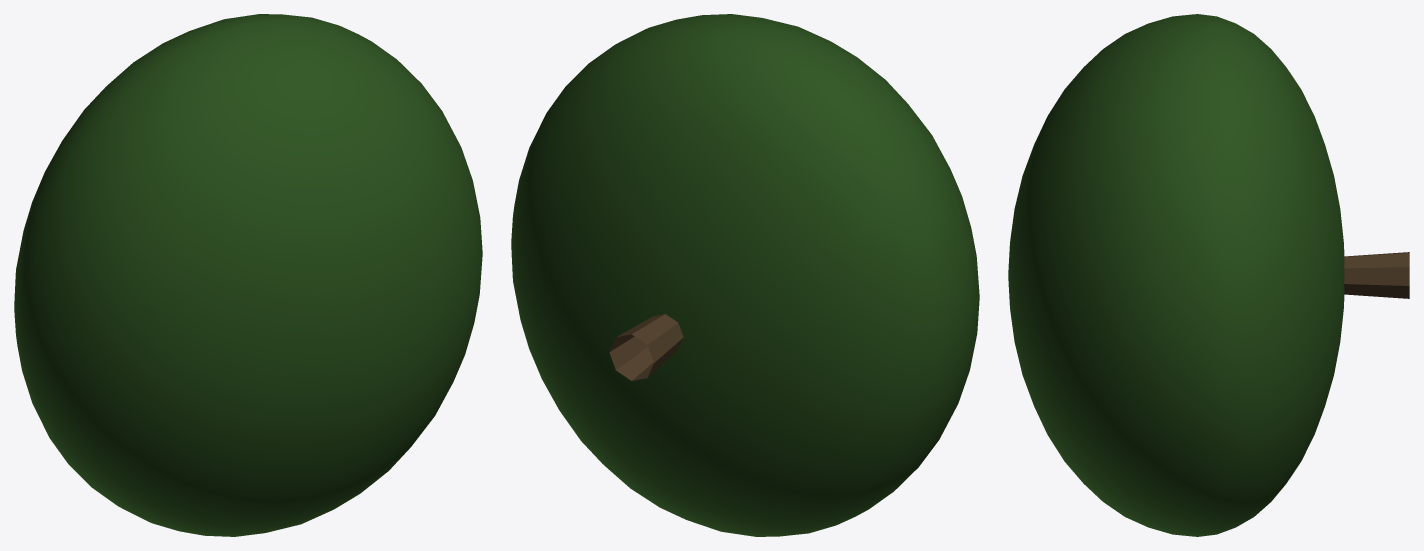
The model's file is citrus_plain_f.obj.
The picture shows the model from 3 angles, left to right: view 1: azimuth 30°, elevation 25°; view 2: azimuth 150°, elevation 25°; view 3: azimuth 270°, elevation 25°; orthographic projection. The views are drawn at different scales.
Parts seen in each view (by area): view 1: canopy; view 2: canopy, trunk; view 3: canopy, trunk.
Boxes of the visible parts, <box> form: canopy: <box>14,14,482,536</box>; canopy: <box>511,14,979,536</box>; trunk: <box>609,314,683,380</box>; canopy: <box>1008,14,1344,536</box>; trunk: <box>1344,252,1409,298</box>.
Size of the model in its own units: 3.03 by 3.3 by 2.5.
